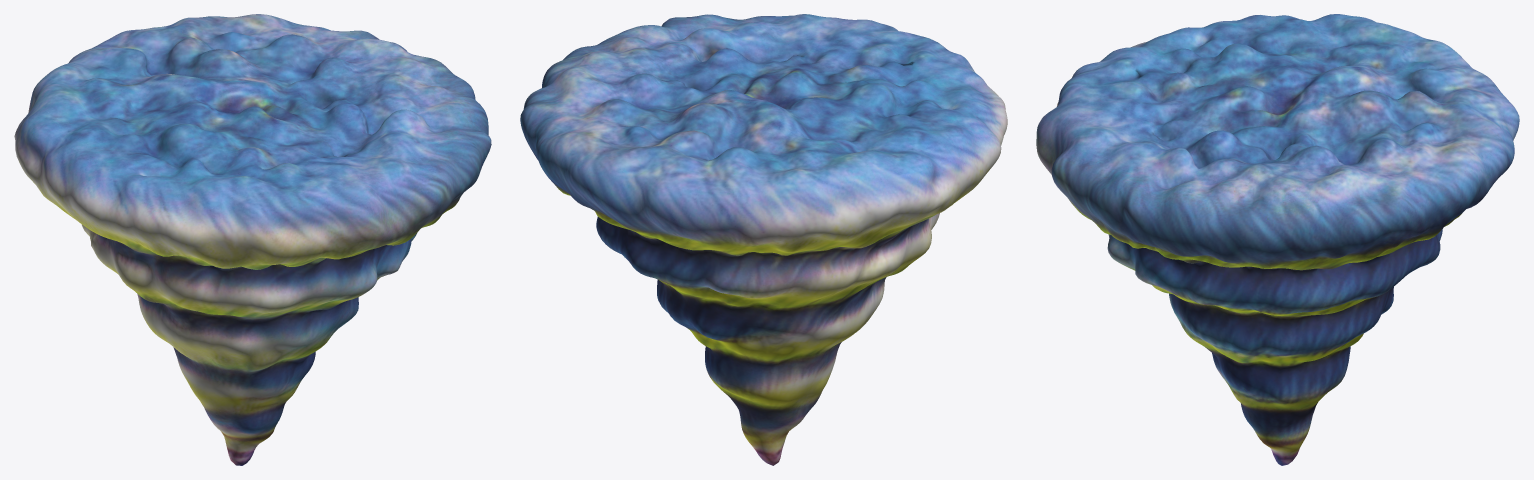
The model's file is vortex_elemental.glb.
3 renders of one model, left to right at view 1: azimuth 30°, elevation 25°; view 2: azimuth 150°, elevation 25°; view 3: azimuth 270°, elevation 25°, orthographic.
Visible parts, largest first — view 1: Mesh1; view 2: Mesh1; view 3: Mesh1.
Part boxes in pixels (box(x1,y1,x2,y2)): Mesh1: box(14, 14, 491, 465); Mesh1: box(520, 14, 1007, 465); Mesh1: box(1036, 14, 1519, 465).
Size of the model in its own units: 1.2 by 1.05 by 1.2.
1 material, 1 textured.
